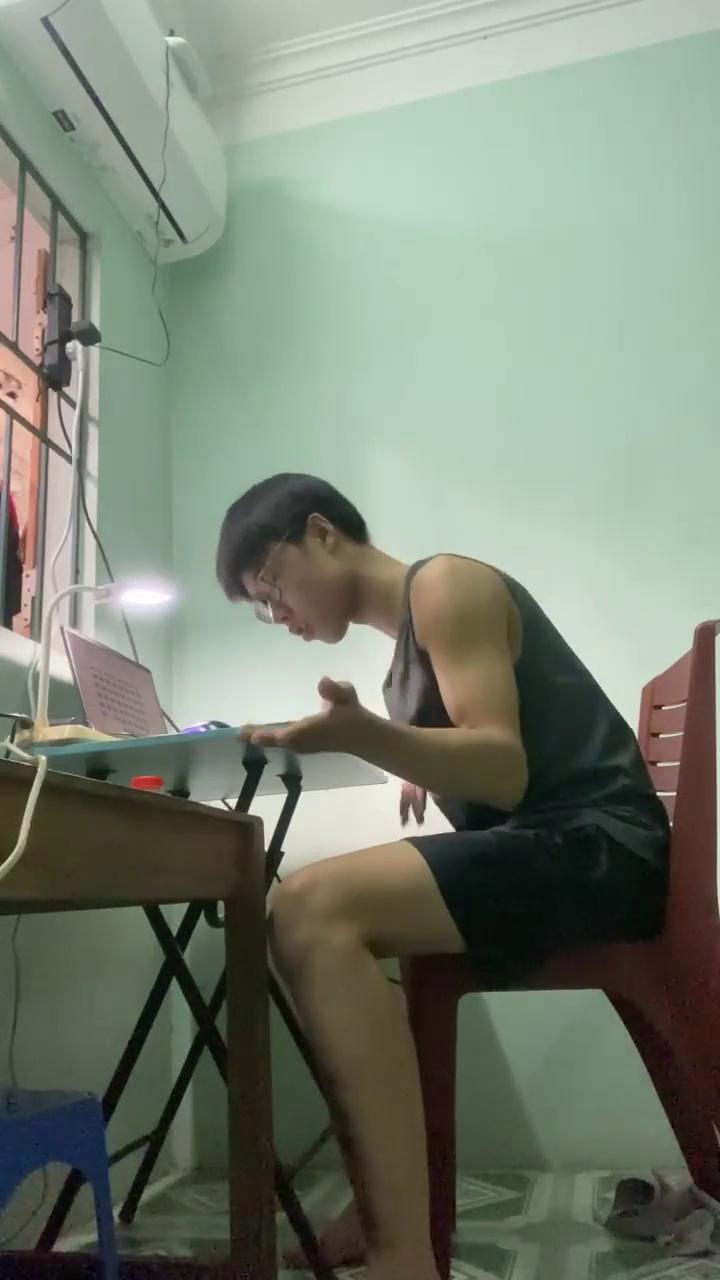BadPosture: (216, 473, 668, 1279)
